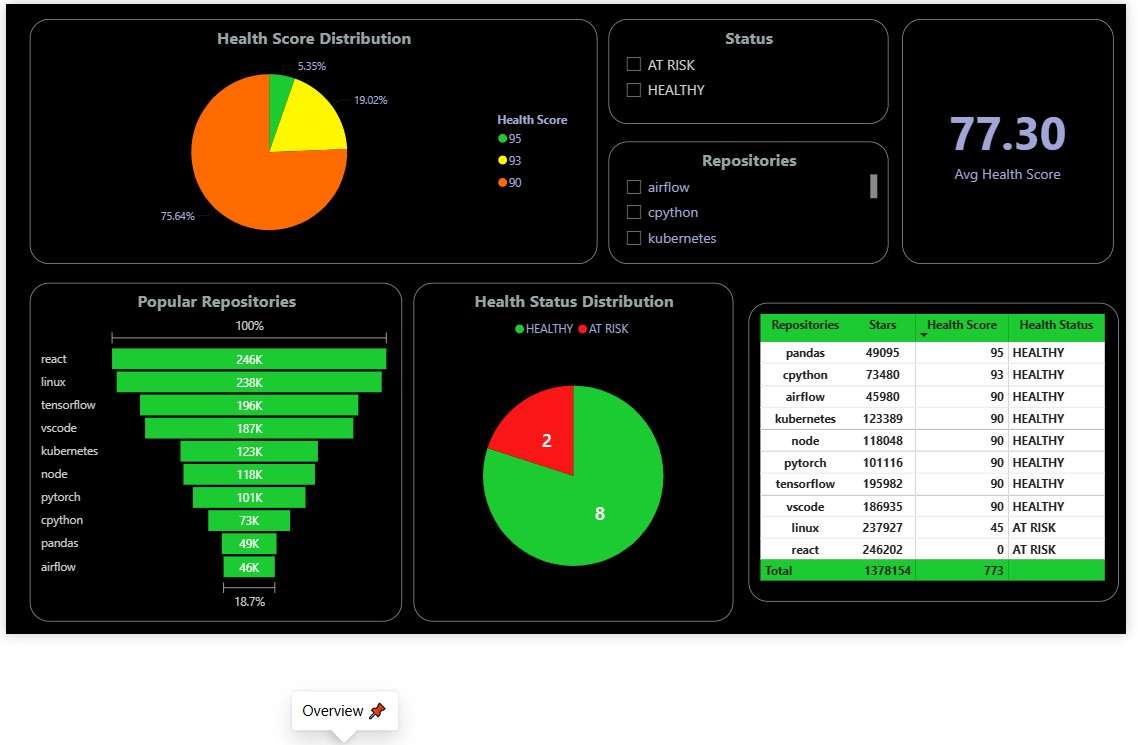

The page's visual inventory and layout, read from the dashboard file:
{"tool":"powerbi","page":{"name":"Overview 📌","canvas":[1280,720],"ordinal":1},"visuals":[{"type":"pieChart","title":"Health Score Distribution ","fields":{"Category":["HealthScores.overall_health_score"],"Y":["Sum(Contributors.contribution_count)"]},"box":[27.1,17.1,648.6,280],"z":0},{"type":"cardVisual","title":"Average Health Score ","fields":{"Data":["Avg(HealthScores.overall_health_score)"]},"box":[1024.3,17.1,241.4,280],"z":1000},{"type":"slicer","title":"Status","fields":{"Values":["HealthScores.health_status"]},"box":[688.6,17.1,320,120],"z":3000},{"type":"slicer","title":"Repositories","fields":{"Values":["Repositories.repo_name"]},"box":[688.6,157.1,320,140],"z":4000},{"type":"pieChart","title":"Health Status Distribution ","fields":{"Category":["HealthScores.health_status"],"Y":["CountNonNull(Repositories.repo_name)"]},"box":[465.7,318.6,365.7,387.1],"z":5000},{"type":"funnel","title":"Popular Repositories ","fields":{"Category":["Repositories.repo_name"],"Y":["Sum(Repositories.watchers)"]},"box":[27.1,318.6,425.7,387.1],"z":6000},{"type":"tableEx","fields":{"Values":["Repositories.repo_name","Sum(Repositories.stars)","Sum(HealthScores.overall_health_score)","HealthScores.health_status"]},"box":[848.6,341.4,422.9,341.4],"z":7000}]}

Visuals, with their boxes on the page's 1280x720 design canvas (x1, y1, x2, y2). These are canvas units, not pixel positions in the 1138x745 screenshot, which may show the page scaled, cropped or inside an application window:
"Health Score Distribution " pieChart: bbox=[27, 17, 676, 297]
"Average Health Score " cardVisual: bbox=[1024, 17, 1266, 297]
"Status" slicer: bbox=[689, 17, 1009, 137]
"Repositories" slicer: bbox=[689, 157, 1009, 297]
"Health Status Distribution " pieChart: bbox=[466, 319, 831, 706]
"Popular Repositories " funnel: bbox=[27, 319, 453, 706]
tableEx - Repositories.repo_name x Sum(Repositories.stars): bbox=[849, 341, 1272, 683]
